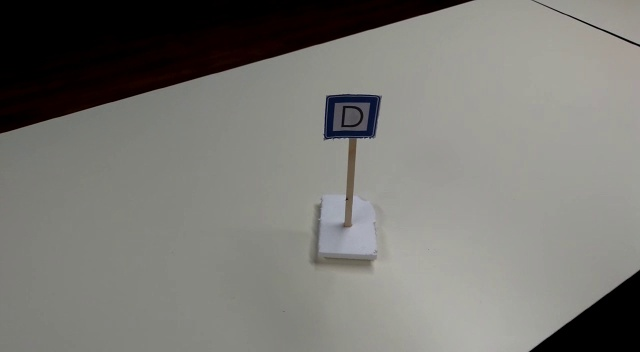durak: (324, 94, 379, 136)
